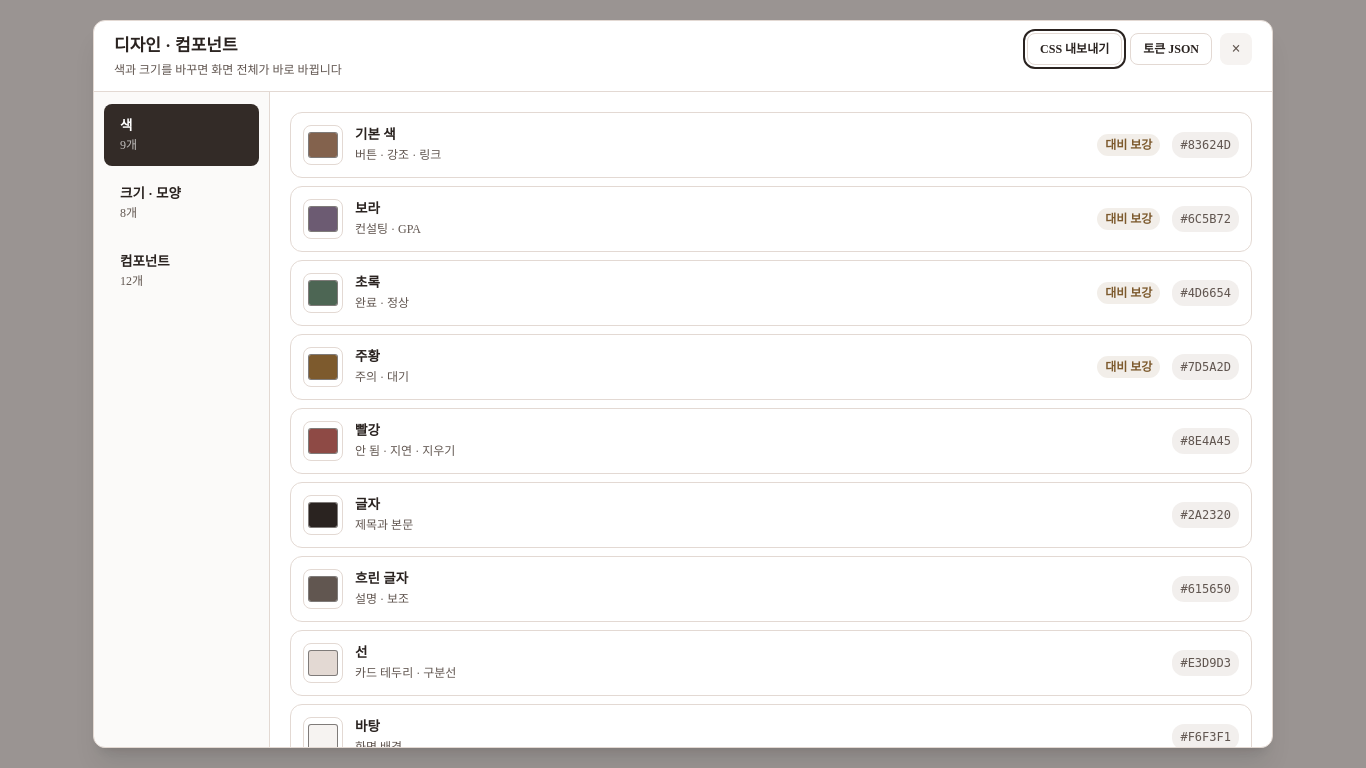
Test: 크기 갈래는 원문이 「5개」인데 지금 여덟이라는 것을 숨기지 않는다 (N-34)
The image size is (1366, 768).
Click the button "크기 · 모양 8개" at (182, 203), box [104, 172, 259, 234]
(page scrolled)
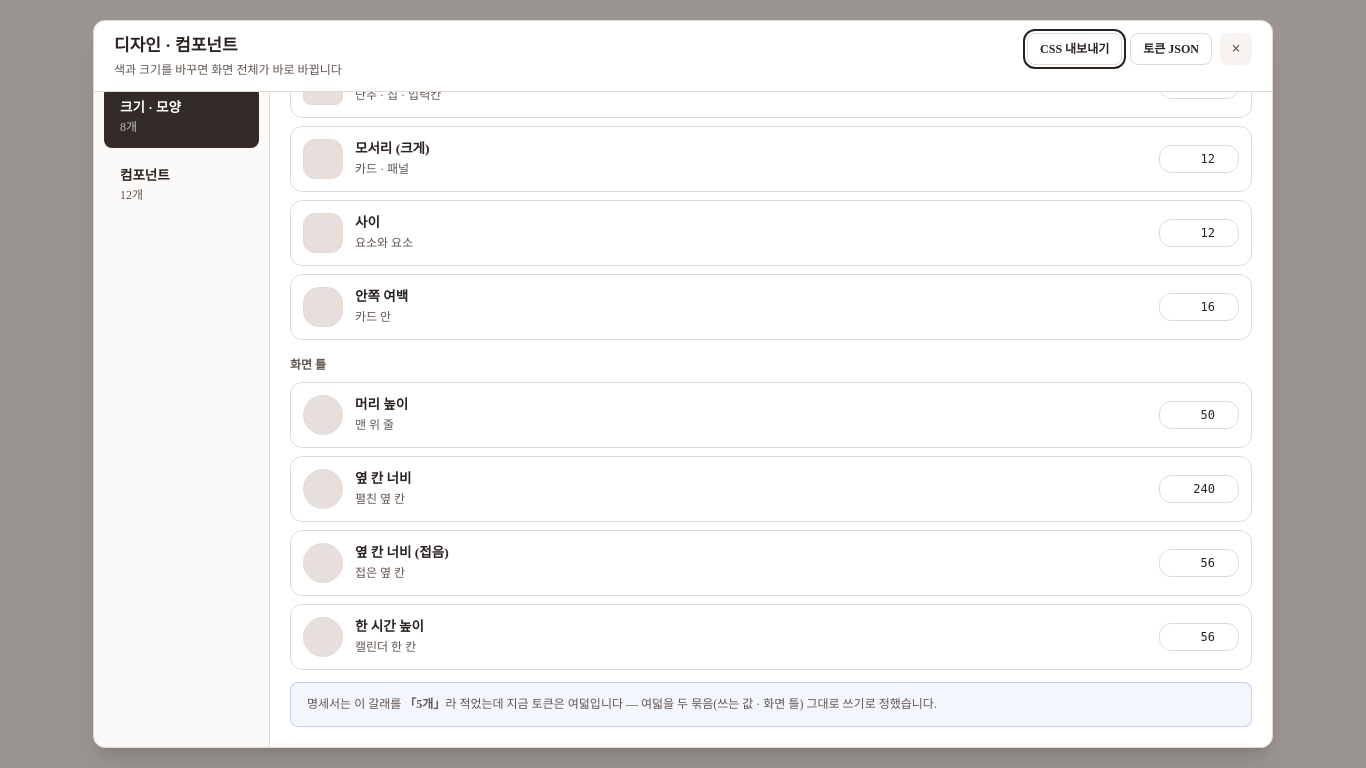
Expected: the heading "화면 틀" is shown, [290, 358, 326, 372]
Expected: the text "지금 토큰은 여덟입니다" is shown, [445, 696, 937, 710]
